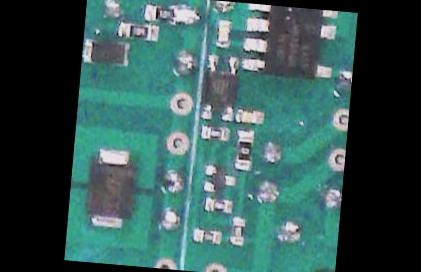chip-capacitor: (232, 106, 266, 127), (212, 16, 233, 49)
chip-resistor: (231, 126, 255, 171), (142, 0, 183, 24), (116, 21, 158, 42), (200, 193, 234, 215), (198, 121, 232, 143), (189, 225, 222, 245), (226, 214, 246, 245)
diode: (81, 144, 141, 230), (81, 36, 131, 68)
ic: (236, 2, 337, 83), (197, 52, 240, 122)
transistor: (201, 162, 237, 194)
